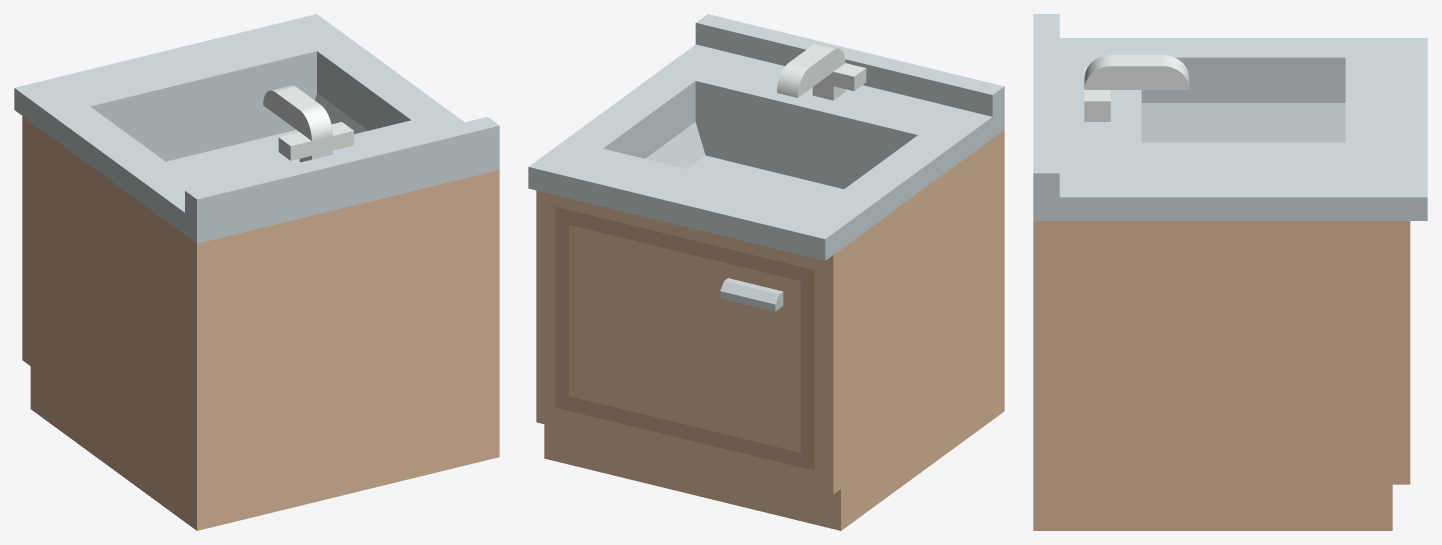
Rendered from kitchenSink.gltf.
3 renders of one model, left to right at view 1: azimuth 30°, elevation 25°; view 2: azimuth 150°, elevation 25°; view 3: azimuth 270°, elevation 25°, orthographic. The views are drawn at different scales.
Visible parts, largest first — view 1: kitchenSink; view 2: kitchenSink, door; view 3: kitchenSink.
Boxes of the visible parts, bbox=[...] form: kitchenSink: bbox=[14, 14, 499, 530]; kitchenSink: bbox=[528, 14, 1004, 530]; door: bbox=[555, 206, 814, 470]; kitchenSink: bbox=[1033, 14, 1427, 530].
Size of the model in its own units: 4.3 by 4.9 by 4.5.
